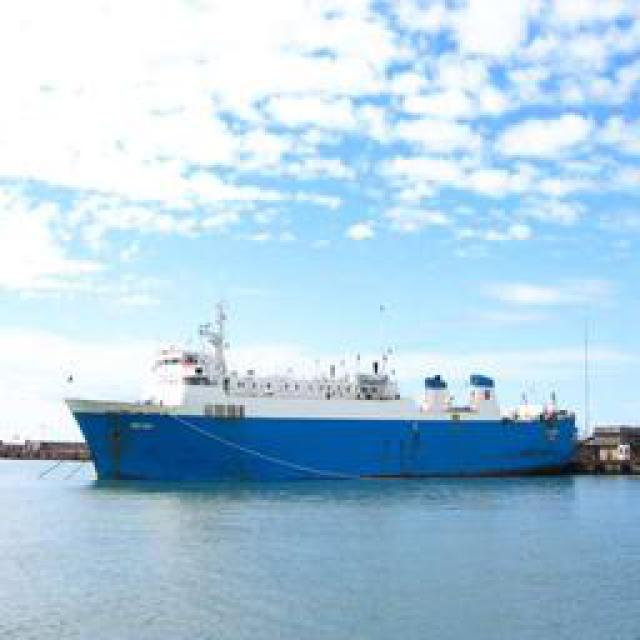Ship: (65, 362, 590, 485)
